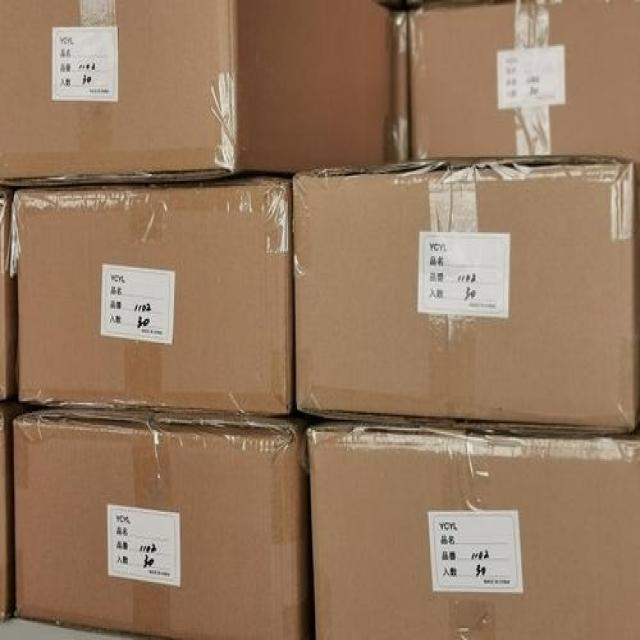box: (293, 164, 639, 433), (306, 420, 639, 638), (14, 410, 315, 638), (16, 180, 293, 413), (0, 1, 238, 189), (398, 1, 638, 163), (236, 1, 399, 174)
